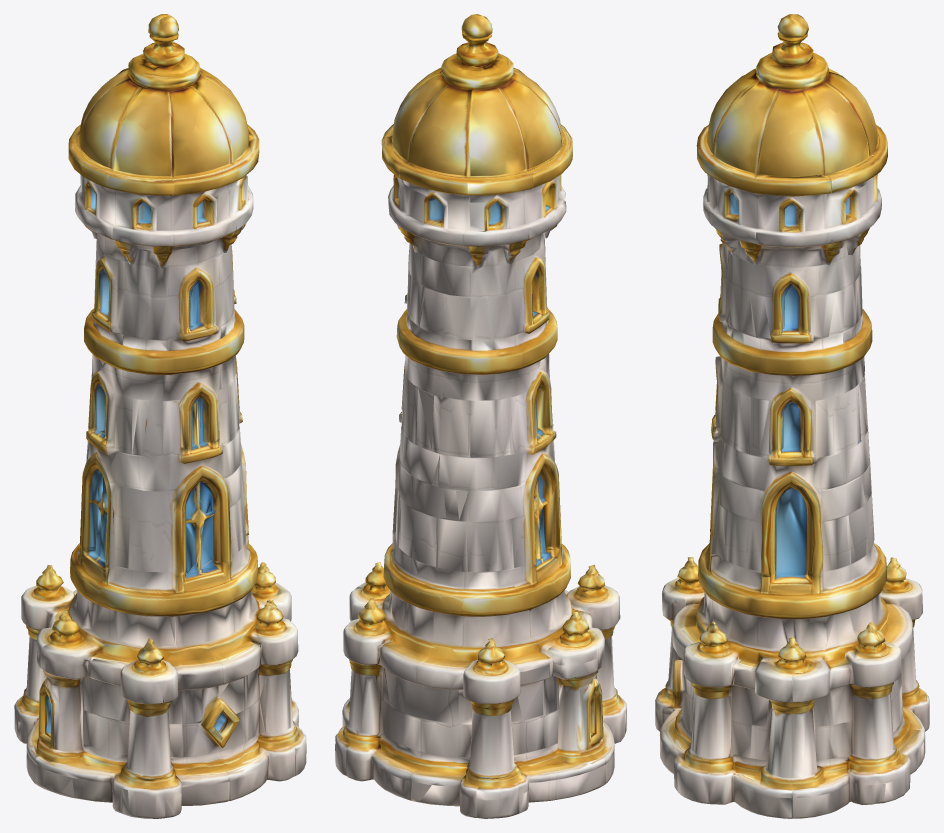
File: HaloPart_CathTowerB_HD_LOD.glb
The picture shows the model from 3 angles, left to right: view 1: azimuth 30°, elevation 25°; view 2: azimuth 150°, elevation 25°; view 3: azimuth 270°, elevation 25°; orthographic projection.
Visible parts, largest first — view 1: tripo_node_bff111fa-8a70-4f7d-9cac-58d2d2899f01; view 2: tripo_node_bff111fa-8a70-4f7d-9cac-58d2d2899f01; view 3: tripo_node_bff111fa-8a70-4f7d-9cac-58d2d2899f01.
Boxes of the visible parts, box(x1,y1,x2,y2) form: tripo_node_bff111fa-8a70-4f7d-9cac-58d2d2899f01: box(14, 14, 306, 818); tripo_node_bff111fa-8a70-4f7d-9cac-58d2d2899f01: box(335, 14, 626, 818); tripo_node_bff111fa-8a70-4f7d-9cac-58d2d2899f01: box(655, 14, 929, 818).
Bounding box in the file's own units: 0.3552 × 0.9786 × 0.3284.
Materials: 1 (1 with a texture image).
